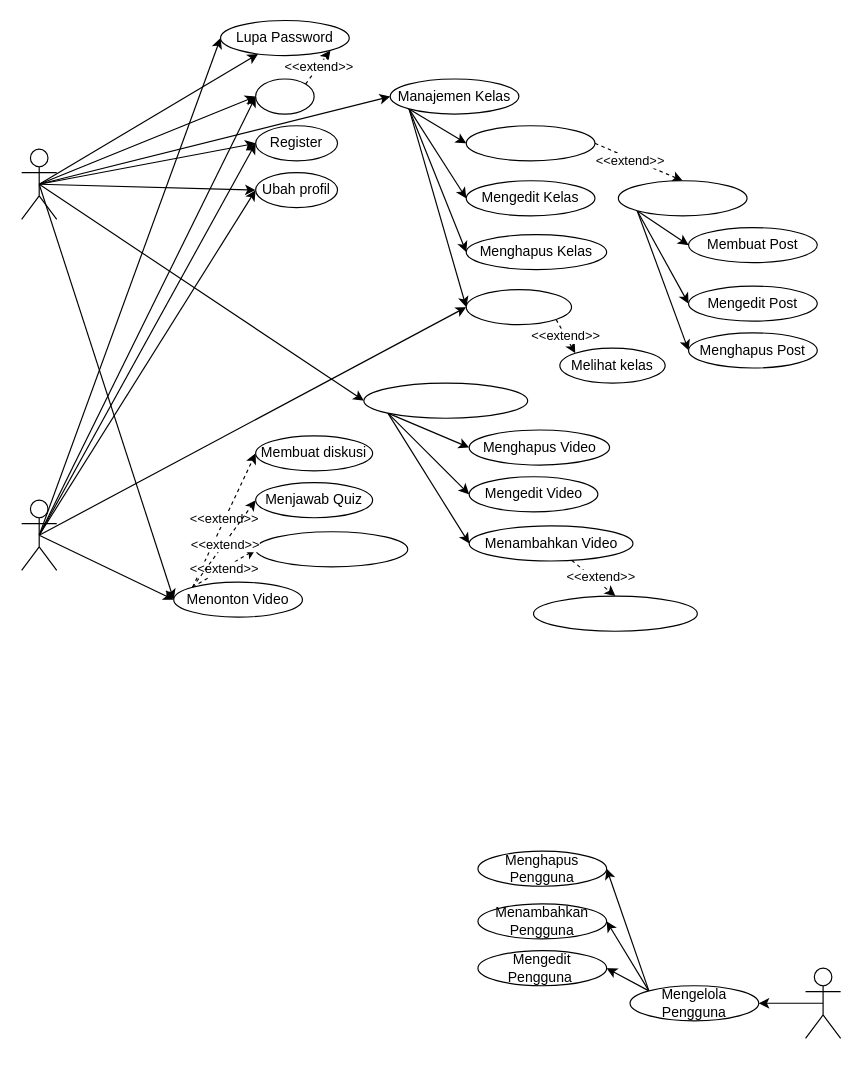
Some shapes in this 862 by 1083 pixel diagram are drawn without their labels. The centre of each missing label's shape, as x and y in pixels:
Admin: the point at 822,1002
Guru: the point at 38,183
Login: the point at 284,96
Manajemen Post: the point at 682,198
Manajemen Video: the point at 445,400
Masuk Kelas: the point at 518,306
Membuat Kelas: the point at 530,143
Menambahkan quiz: the point at 614,613
Menghapus diskusi: the point at 331,549
Siswa: the point at 38,534
